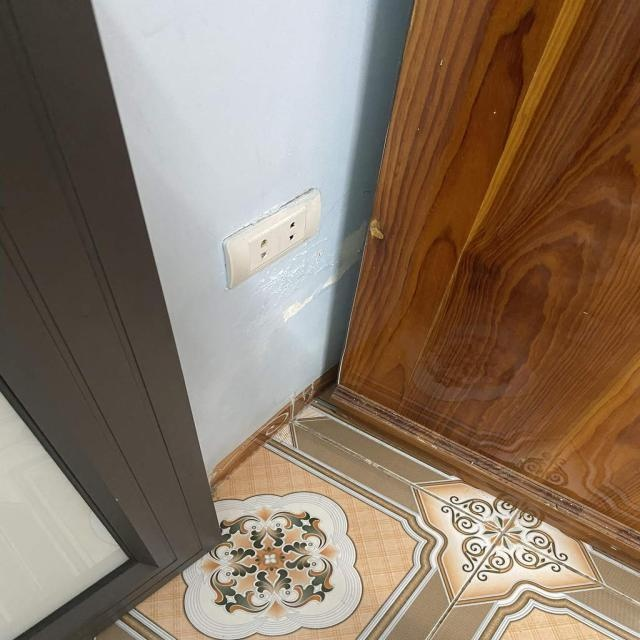outlet: (222, 187, 321, 290)
